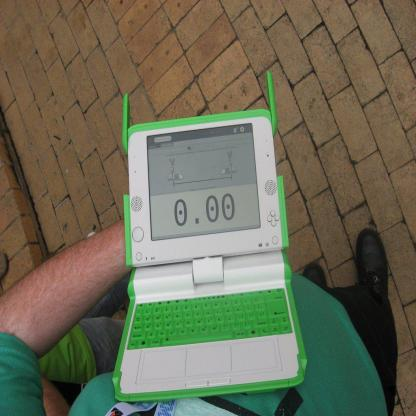board: (111, 67, 307, 403)
